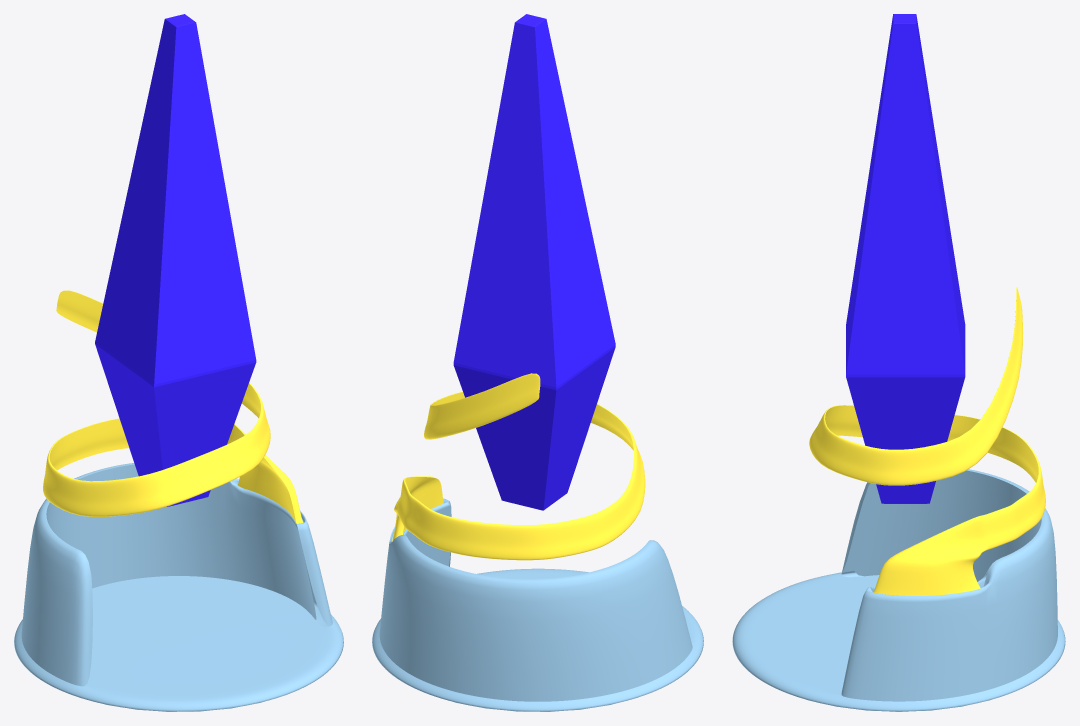
Rendered from ForwardTower.fbx.
3 views of the same model, side by side, from view 1: azimuth 30°, elevation 25°; view 2: azimuth 150°, elevation 25°; view 3: azimuth 270°, elevation 25° (orthographic).
Visible parts, largest first — view 1: Crystal, Floor, Inner Wall, OutterWall; view 2: OutterWall, Crystal, Floor, Inner Wall; view 3: OutterWall, Crystal, Floor, Inner Wall.
Boxes of the visible parts, x1,y1,x2,y2 form: Crystal: (95,14,256,506); Floor: (14,576,343,711); Inner Wall: (46,290,316,619); OutterWall: (21,290,332,686); OutterWall: (379,373,692,701); Crystal: (453,14,615,510); Floor: (372,568,703,711); Inner Wall: (403,392,633,566); OutterWall: (809,287,1057,701); Crystal: (846,14,965,503); Floor: (732,570,1065,711); Inner Wall: (825,405,1041,592).
Size of the model in its own units: 188 by 393 by 188.
